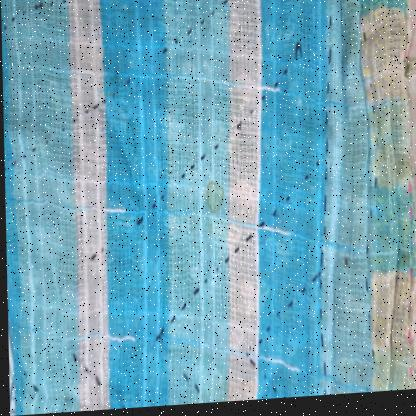spot: (202, 178, 227, 224)
